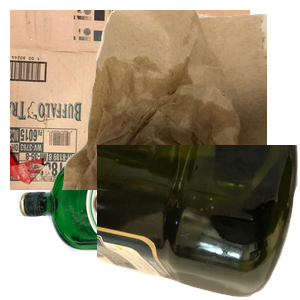cardboard: (10, 10, 250, 190)
glass: (14, 150, 247, 300)
plastic: (97, 145, 300, 300)
trash: (60, 10, 300, 190)
